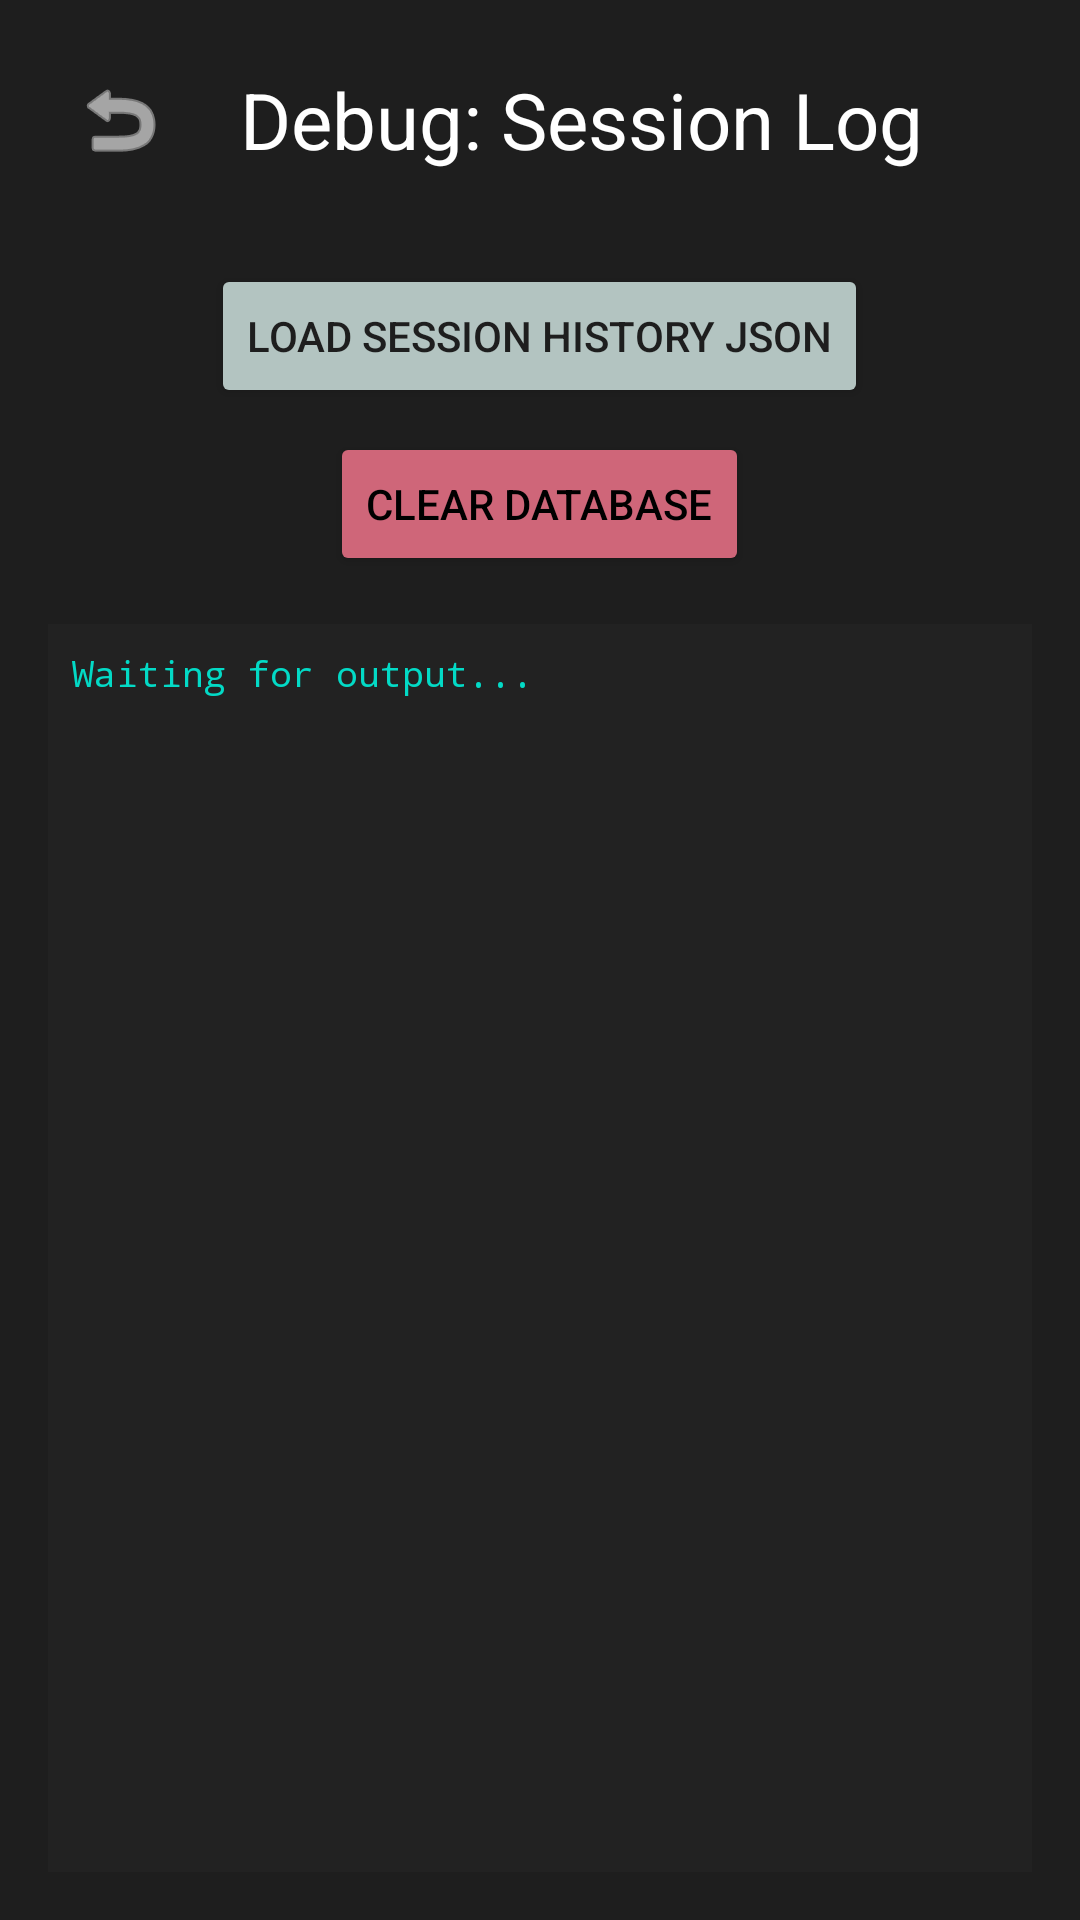

Icons on this 1080x1920 Android screen, each with its box as (x1, y1, x2, y2):
Back: (87, 89, 156, 152)
